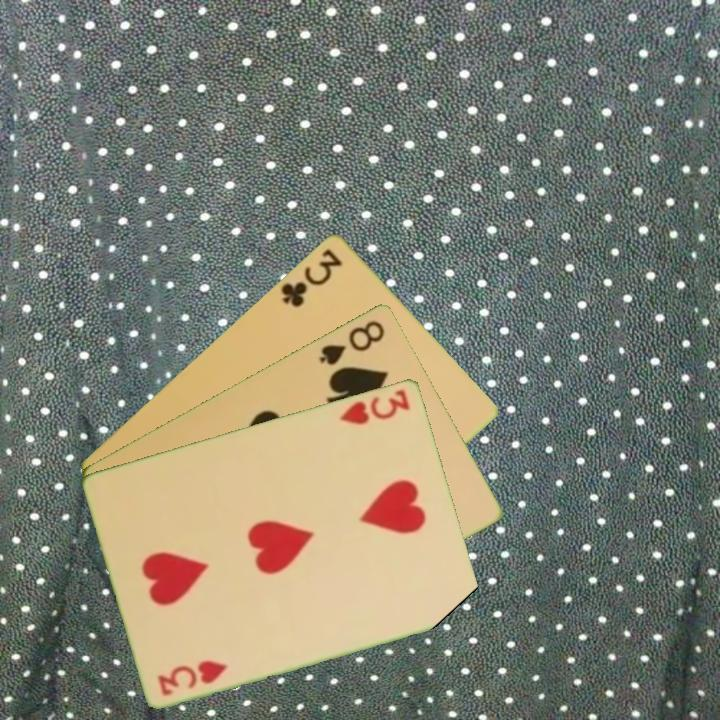3c: (277, 244, 346, 310)
3h: (154, 656, 231, 699), (336, 385, 413, 427)
8s: (315, 316, 388, 368)
